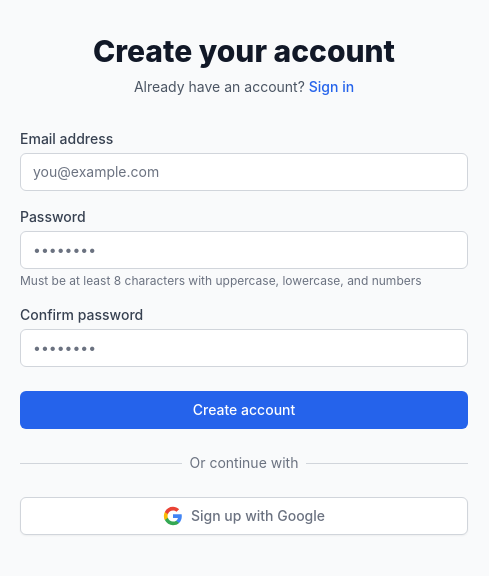
Test: RegisterForm › shows validation error when passwords do not match
Type "test@example.com" into the field labelled "Email address".
click(244, 172); type("test@example.com")  # box [20, 153, 468, 191]
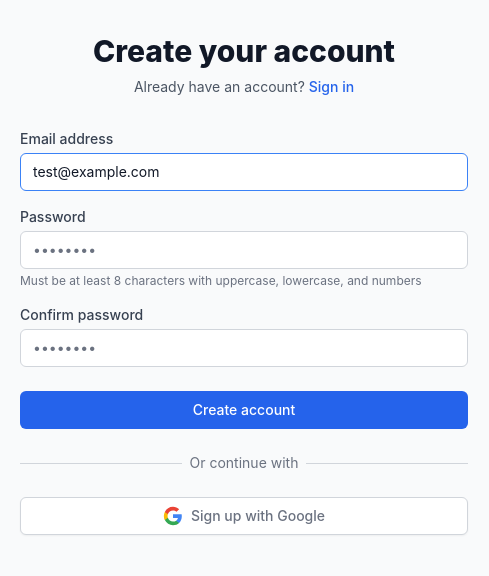
Type "Password123" into the password field labelled "Password".
click(244, 250); type("Password123")  # box [20, 231, 468, 269]
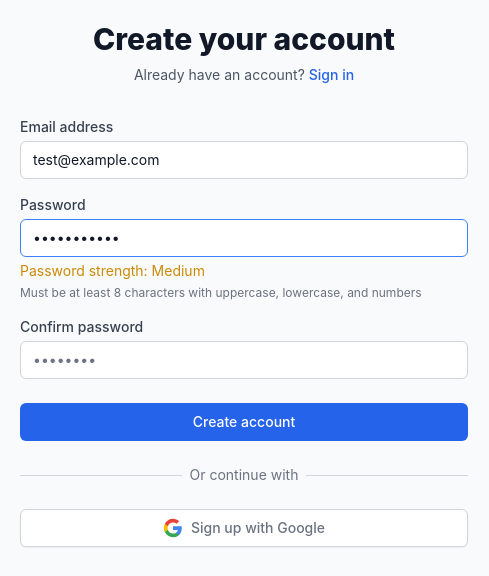
Type "DifferentPassword123" into the password field labelled "Confirm password".
click(244, 360); type("DifferentPassword123")  # box [20, 341, 468, 379]
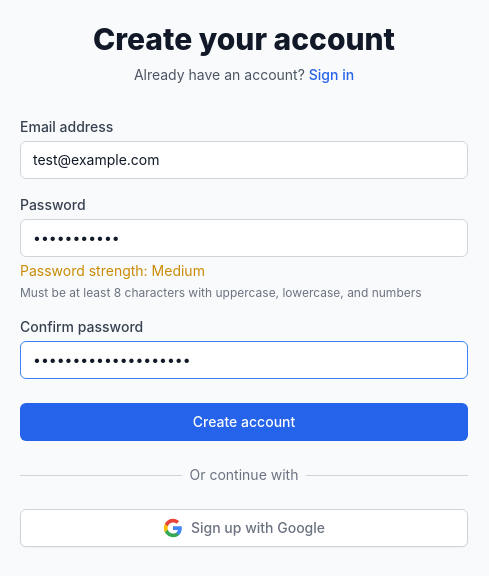
Click the button "Create account".
click(244, 422)  # box [20, 403, 468, 441]
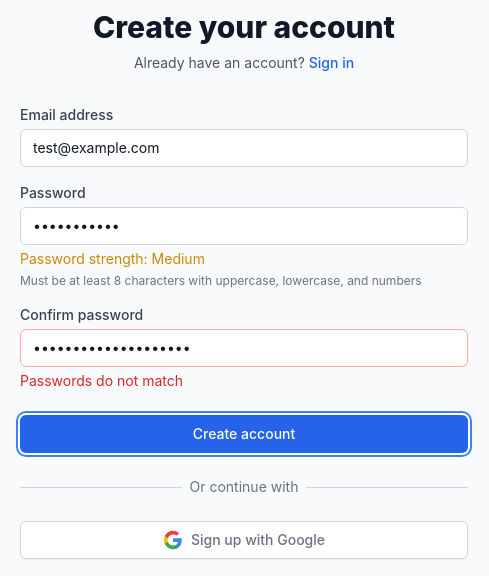
Expected: the text "Passwords do not match" is shown, [20, 372, 183, 389]
